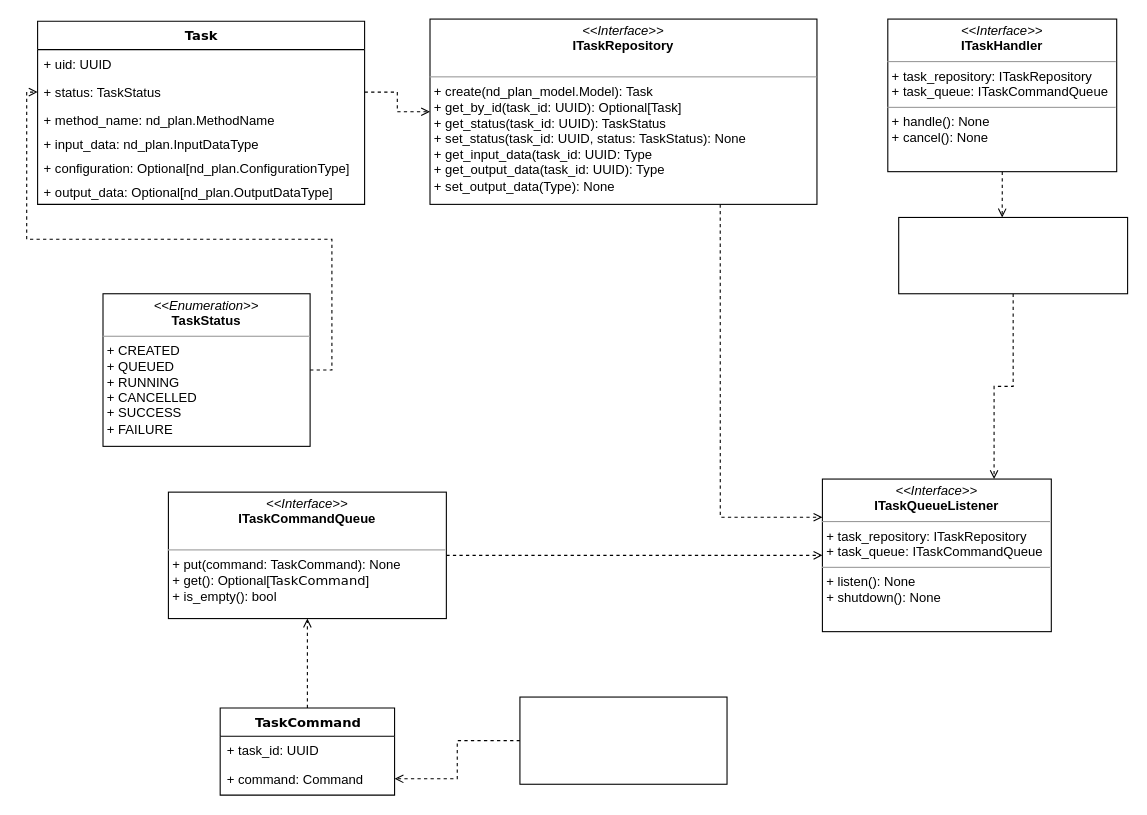
The diagram is 1147 pixels wide and 815 high, and some of its shapes have lost their labels. Here are the shapes that lost their labels. From the top down, the centre of each, then its label:
At point 1013,255: "<<Interface>> ITaskHandlerFactory + build(): ITaskHandler".
At point 623,740: "<<Enumeration>> Command + RUN + CANCEL".
